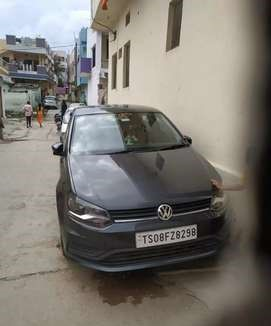TS08FZ8298: (135, 223, 197, 248)
